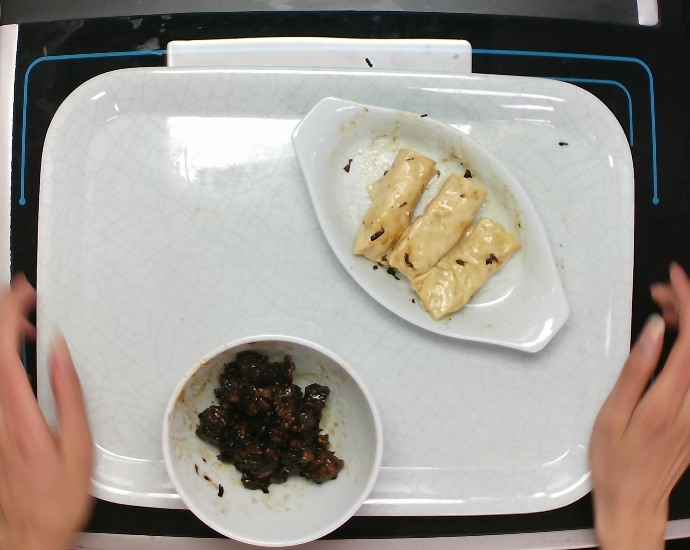JYsf-Fan_Wan: (158, 331, 387, 550)
JYsf-Yu_Pan: (288, 92, 572, 357)
